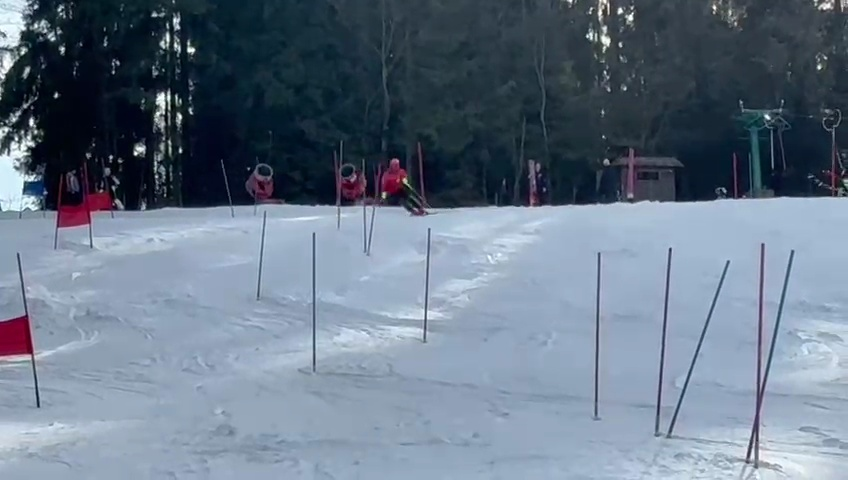gate: (747, 238, 805, 473), (665, 249, 734, 445), (742, 238, 781, 470), (4, 247, 49, 413), (746, 237, 767, 468), (651, 243, 674, 440), (590, 245, 609, 425), (305, 228, 324, 378), (419, 224, 437, 344), (365, 157, 384, 263), (357, 155, 376, 260), (255, 206, 272, 305), (413, 138, 433, 221), (78, 158, 96, 247), (50, 163, 68, 249), (215, 156, 238, 219), (329, 144, 345, 226), (358, 165, 369, 261), (247, 159, 260, 210), (526, 158, 538, 209)
